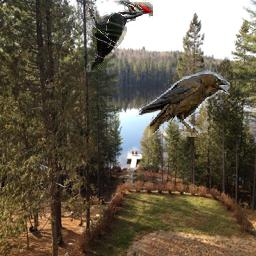Crow: (136, 69, 230, 137)
Woodpecker: (87, 0, 154, 72)
